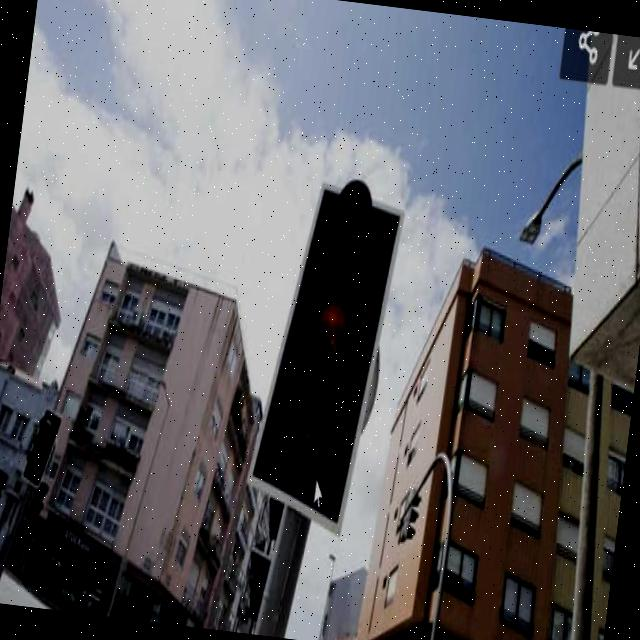yellow_light: (284, 172, 380, 466)
